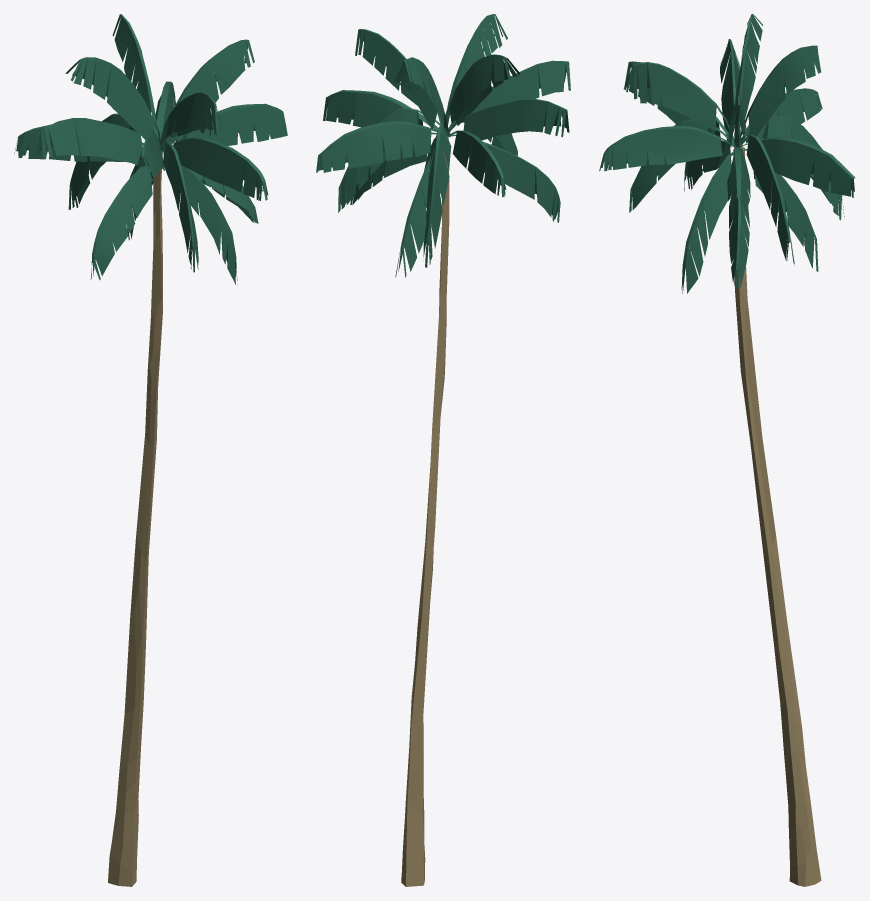
File: tree_palm_nibong_E.fbx
The picture shows the model from 3 angles, left to right: view 1: azimuth 30°, elevation 25°; view 2: azimuth 150°, elevation 25°; view 3: azimuth 270°, elevation 25°; orthographic projection. The views are drawn at different scales.
Visible parts, largest first — view 1: palm_nibong_trunk_E, leaf_palm_nebong_E_6, leaf_palm_nebong_E_7, leaf_palm_nebong_E_1, leaf_palm_nebong_E_16, leaf_palm_nebong_E_10, leaf_palm_nebong_E_5, leaf_palm_nebong_E_15, leaf_palm_nebong_E_2, leaf_palm_nebong_E_4, leaf_palm_nebong_E_8, leaf_palm_nebong_E_13 (+4 smaller); view 2: palm_nibong_trunk_E, leaf_palm_nebong_E_12, leaf_palm_nebong_E_6, leaf_palm_nebong_E_3, leaf_palm_nebong_E_1, leaf_palm_nebong_E_10, leaf_palm_nebong_E_16, leaf_palm_nebong_E_13, leaf_palm_nebong_E_9, leaf_palm_nebong_E_4, leaf_palm_nebong_E_5, leaf_palm_nebong_E_17 (+3 smaller); view 3: palm_nibong_trunk_E, leaf_palm_nebong_E_7, leaf_palm_nebong_E_2, leaf_palm_nebong_E_12, leaf_palm_nebong_E_4, leaf_palm_nebong_E_15, leaf_palm_nebong_E_11, leaf_palm_nebong_E_17, leaf_palm_nebong_E_1, leaf_palm_nebong_E_14, leaf_palm_nebong_E_13, leaf_palm_nebong_E_9 (+6 smaller).
Part boxes in pixels (x1,y1,x2,y2): palm_nibong_trunk_E: (108, 151, 162, 886); leaf_palm_nebong_E_6: (37, 118, 142, 165); leaf_palm_nebong_E_7: (163, 137, 268, 200); leaf_palm_nebong_E_1: (65, 57, 160, 143); leaf_palm_nebong_E_16: (90, 166, 152, 280); leaf_palm_nebong_E_10: (162, 103, 287, 152); leaf_palm_nebong_E_5: (161, 39, 254, 151); leaf_palm_nebong_E_15: (162, 153, 237, 284); leaf_palm_nebong_E_2: (160, 92, 221, 150); leaf_palm_nebong_E_4: (112, 14, 158, 138); leaf_palm_nebong_E_8: (160, 141, 198, 272); leaf_palm_nebong_E_13: (68, 113, 136, 209); palm_nibong_trunk_E: (401, 136, 449, 886); leaf_palm_nebong_E_12: (316, 121, 448, 172); leaf_palm_nebong_E_6: (448, 98, 569, 140); leaf_palm_nebong_E_3: (449, 60, 570, 131); leaf_palm_nebong_E_1: (445, 54, 520, 125); leaf_palm_nebong_E_10: (323, 90, 438, 130); leaf_palm_nebong_E_16: (451, 134, 560, 222); leaf_palm_nebong_E_13: (423, 126, 451, 267); leaf_palm_nebong_E_9: (447, 130, 506, 197); leaf_palm_nebong_E_4: (394, 57, 449, 132); leaf_palm_nebong_E_5: (355, 29, 442, 125); leaf_palm_nebong_E_17: (395, 136, 447, 277); palm_nibong_trunk_E: (733, 147, 821, 886); leaf_palm_nebong_E_7: (599, 125, 736, 171); leaf_palm_nebong_E_2: (623, 62, 735, 146); leaf_palm_nebong_E_12: (740, 137, 855, 197); leaf_palm_nebong_E_4: (740, 45, 821, 138); leaf_palm_nebong_E_15: (681, 146, 742, 293); leaf_palm_nebong_E_11: (739, 134, 794, 265); leaf_palm_nebong_E_17: (743, 148, 818, 271); leaf_palm_nebong_E_1: (733, 14, 762, 147); leaf_palm_nebong_E_14: (727, 173, 750, 288); leaf_palm_nebong_E_13: (740, 116, 844, 220); leaf_palm_nebong_E_9: (740, 88, 822, 143).
Size of the model in its own units: 237 by 782 by 217.
